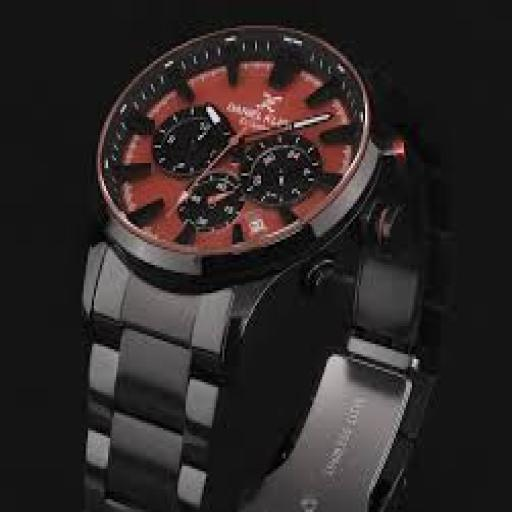KolSaati: (28, 0, 483, 511)
